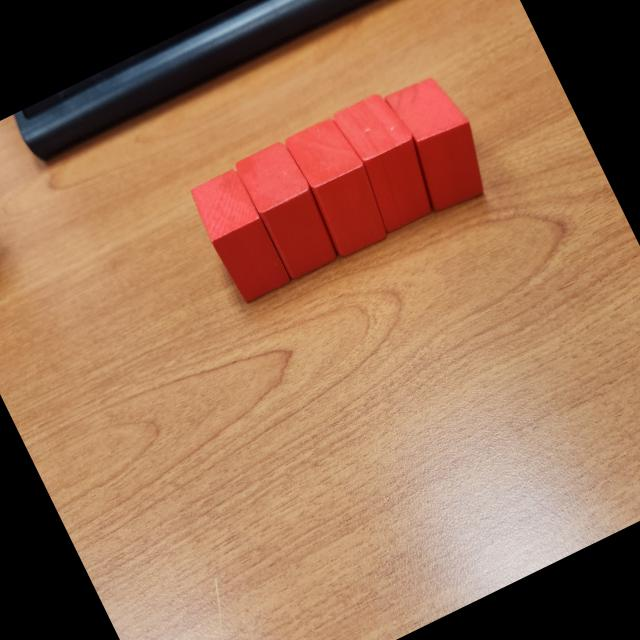red: (378, 67, 500, 216), (330, 86, 448, 235), (282, 111, 398, 262), (230, 132, 344, 283), (185, 164, 292, 307)
